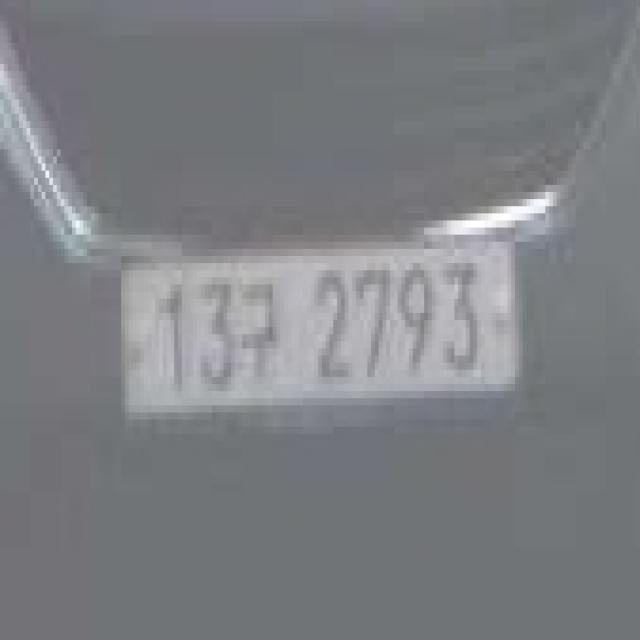1: (155, 278, 193, 412)
2: (311, 263, 356, 398)
3: (439, 249, 485, 377), (197, 270, 235, 398)
7: (348, 256, 398, 384)
9: (398, 256, 439, 384)
gu: (235, 263, 288, 398)
license_plate: (106, 213, 534, 455)
